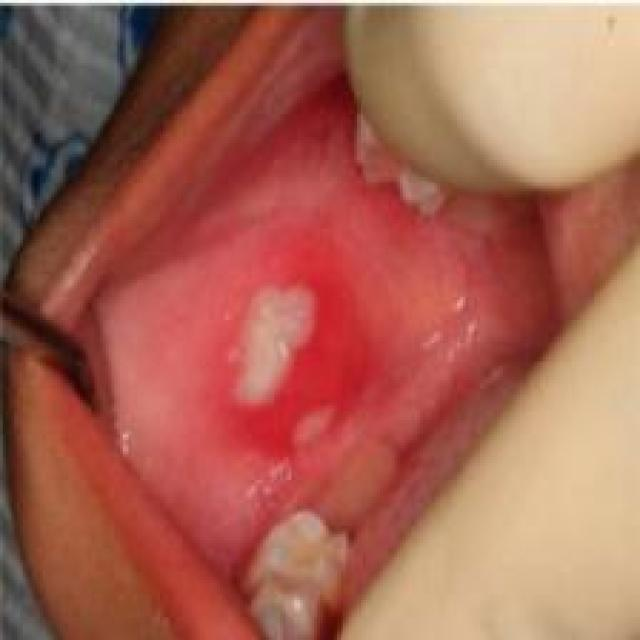processing_area: (59, 62, 571, 581)
ulcer-detection: (196, 252, 382, 458)
